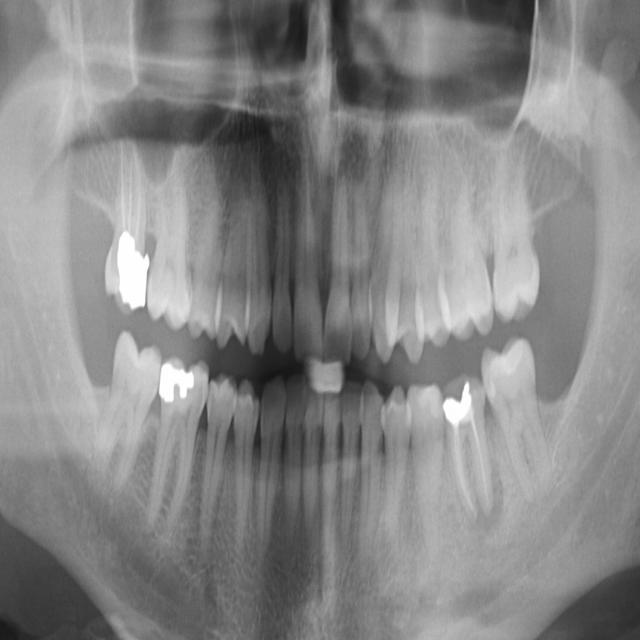dolgu: (100, 233, 153, 305), (152, 363, 213, 410), (438, 389, 476, 428)
kanal-tedavisi: (95, 137, 156, 256), (447, 423, 499, 521)
